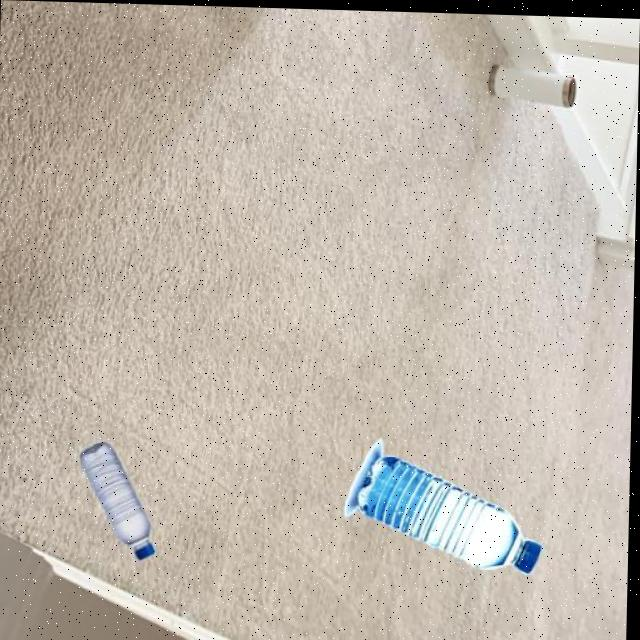bottle: (344, 433, 549, 572), (79, 440, 161, 560)
